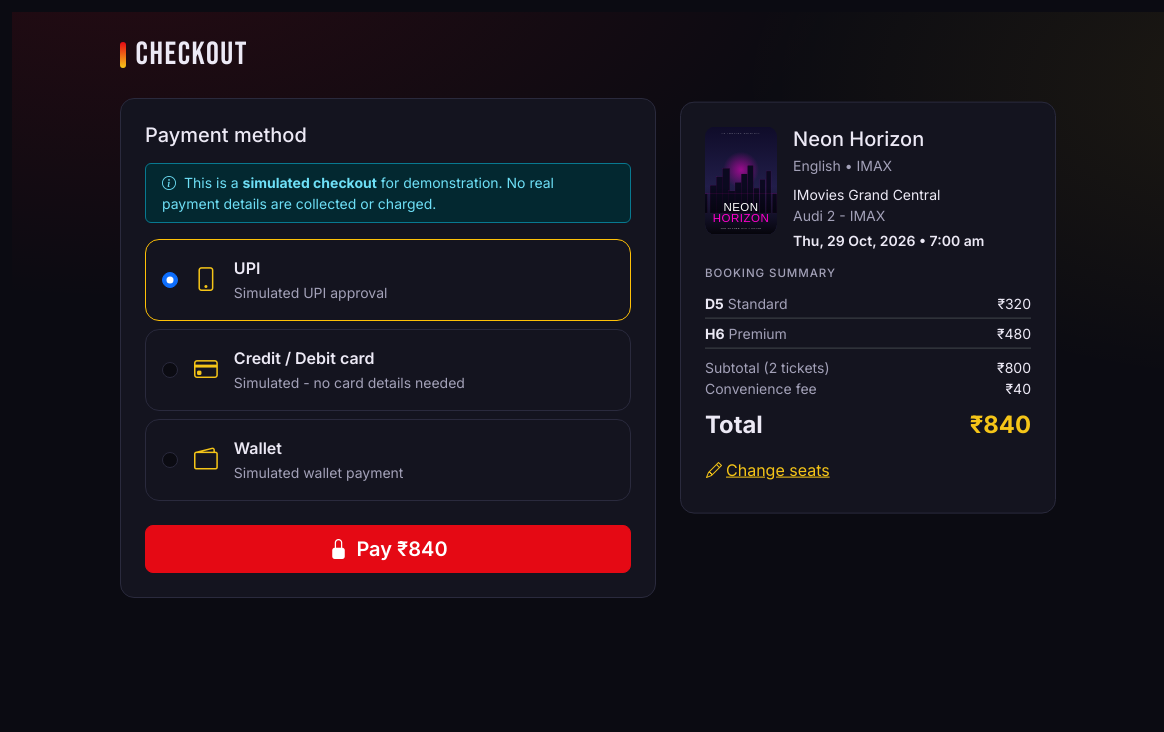
Checkout › shows the server quote and pays once with an idempotency key
Click the button with test id "pay-button" at (388,549), box [145,525,631,573]
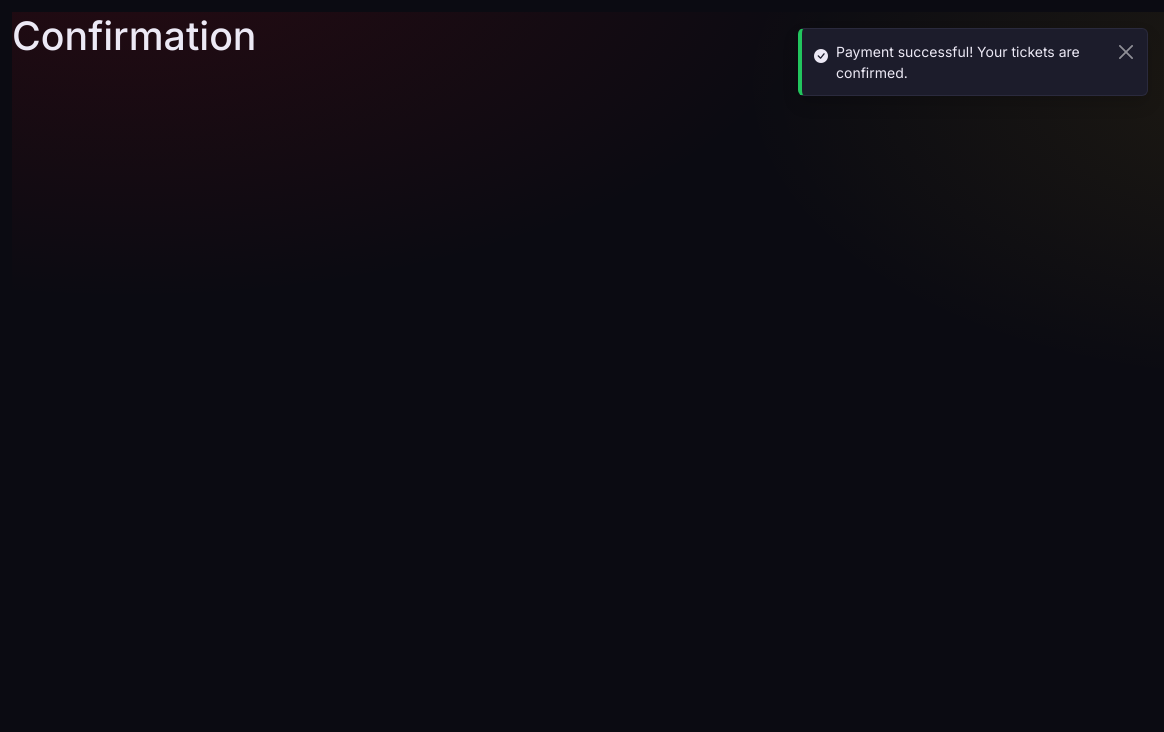
Now the heading "Confirmation" is shown, box [12,12,256,59]
